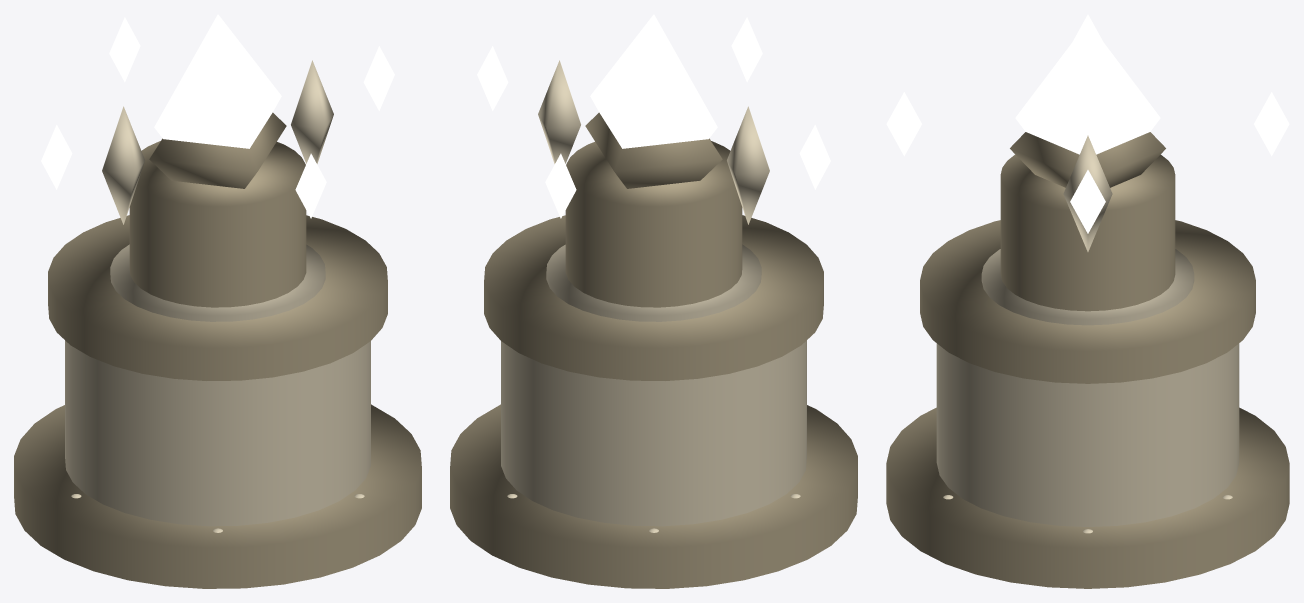
Rendered from arcane_l5.glb.
3 renders of one model, left to right at view 1: azimuth 30°, elevation 25°; view 2: azimuth 150°, elevation 25°; view 3: azimuth 270°, elevation 25°, orthographic.
Parts seen in each view (by area): view 1: base, footing, baseCollar, shaft, spinCrystal, support, lowerTrim, shardL, shardR, OrbitShard1, OrbitShard2, OrbitShard3 (+1 smaller); view 2: base, footing, baseCollar, shaft, spinCrystal, support, lowerTrim, shardL, shardR, OrbitShard3, OrbitShard1, OrbitShard2 (+1 smaller); view 3: base, footing, baseCollar, shaft, spinCrystal, lowerTrim, support, shardR, OrbitShard1, OrbitShard3, OrbitShard0.
Part boxes in pixels (x1,y1,x2,y2): base: (65,340,370,526); footing: (14,404,421,588); baseCollar: (48,215,387,380); shaft: (129,141,306,307); spinCrystal: (154,14,281,148); support: (149,112,286,188); lowerTrim: (110,244,325,321); shardL: (102,106,144,224); shardR: (291,60,333,163); OrbitShard1: (295,153,326,218); OrbitShard2: (41,125,72,189); OrbitShard3: (109,17,140,82); base: (501,340,806,526); footing: (450,404,857,588); baseCollar: (484,215,823,380); shaft: (565,141,742,307); spinCrystal: (590,14,717,148); support: (585,112,722,188); lowerTrim: (546,244,761,321); shardL: (727,106,769,224); shardR: (538,60,580,163); OrbitShard3: (545,153,576,218); OrbitShard1: (731,17,762,82); OrbitShard2: (799,125,830,189); base: (936,343,1239,526); footing: (886,407,1289,588); baseCollar: (920,220,1255,383); shaft: (1000,154,1175,311); spinCrystal: (1015,22,1160,154); lowerTrim: (981,249,1194,325); support: (1010,132,1165,187); shardR: (1063,135,1112,251); OrbitShard1: (886,92,921,156); OrbitShard3: (1254,92,1289,156); OrbitShard0: (1070,170,1105,233).
Size of the model in its own units: 1.8 by 2.38 by 1.8.
